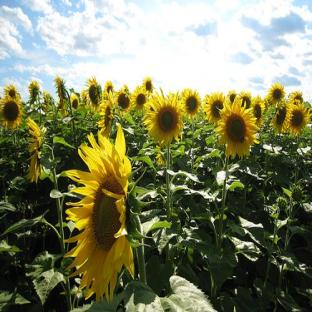sunflower: (64, 124, 147, 304)
